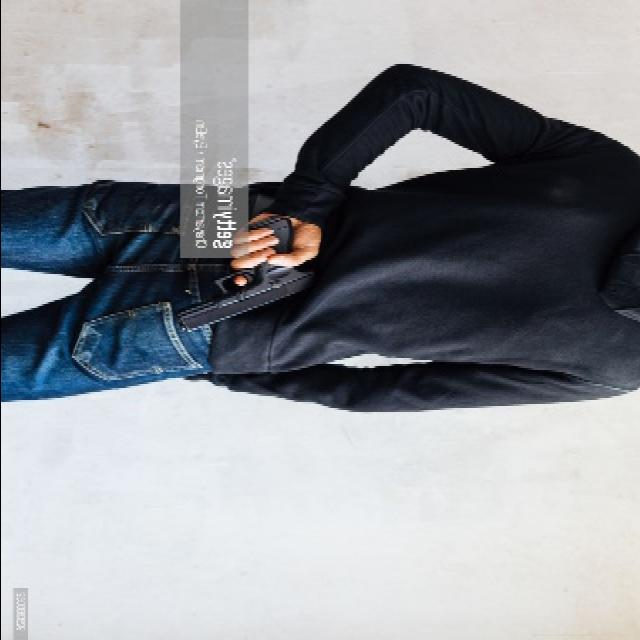handgun: (175, 213, 307, 345)
